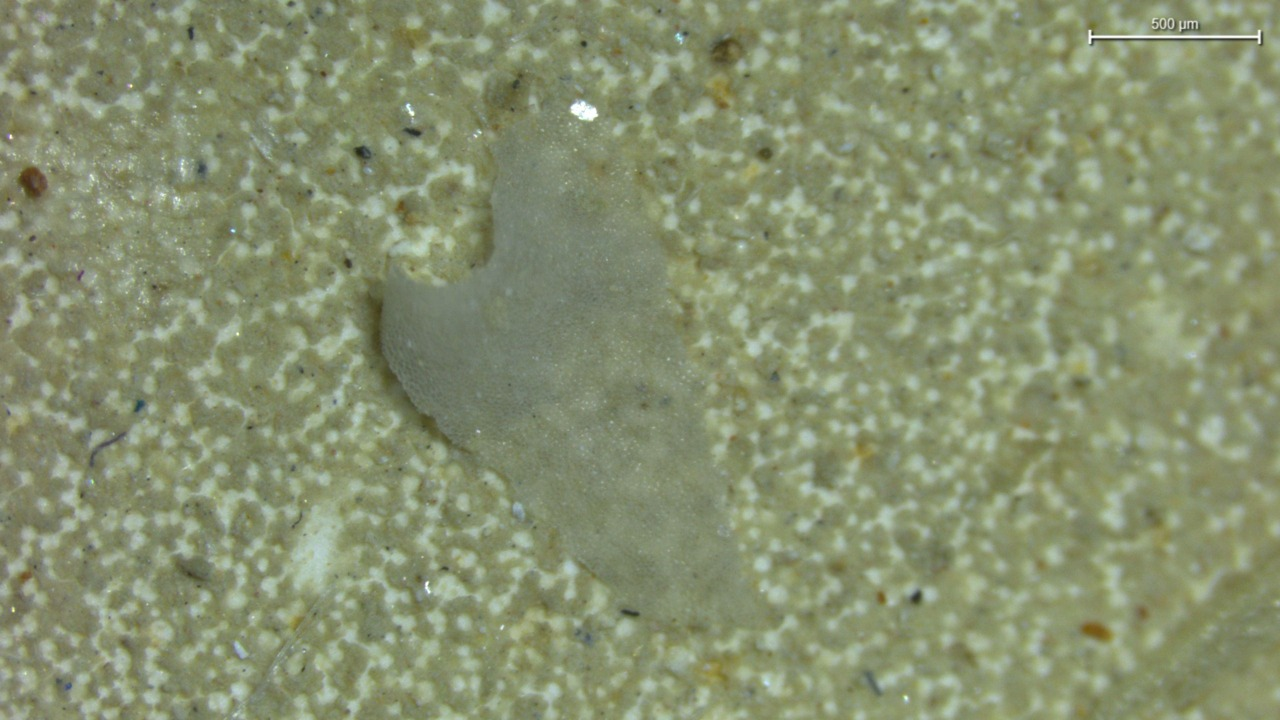microplastic_fragment: (380, 112, 766, 624)
